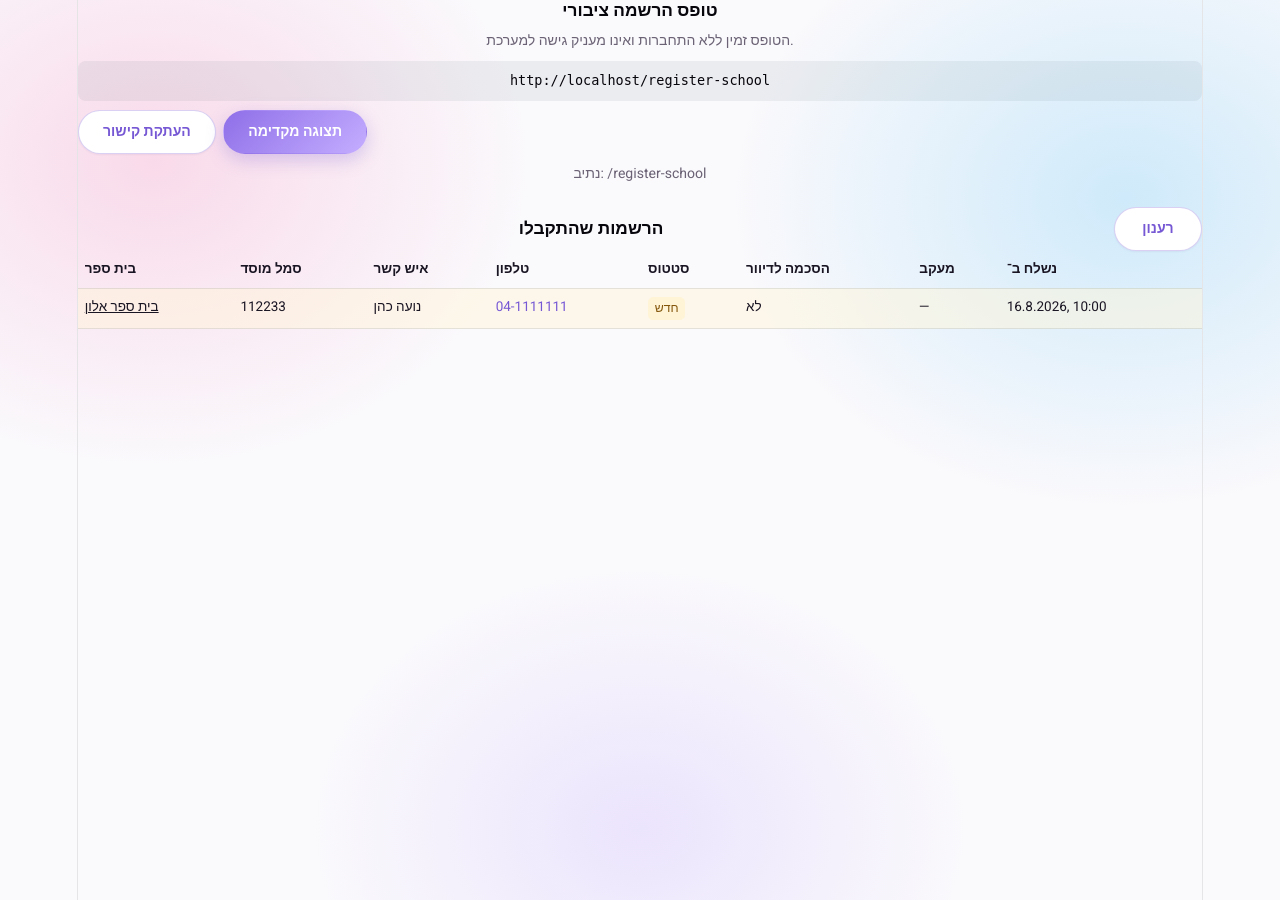
Test case: PlatformAdminRegistrationsSection › opens registration details with sales controls and timeline
Click the button "בית ספר אלון": (122, 307) left=85, top=297, right=159, bottom=317
(page scrolled)
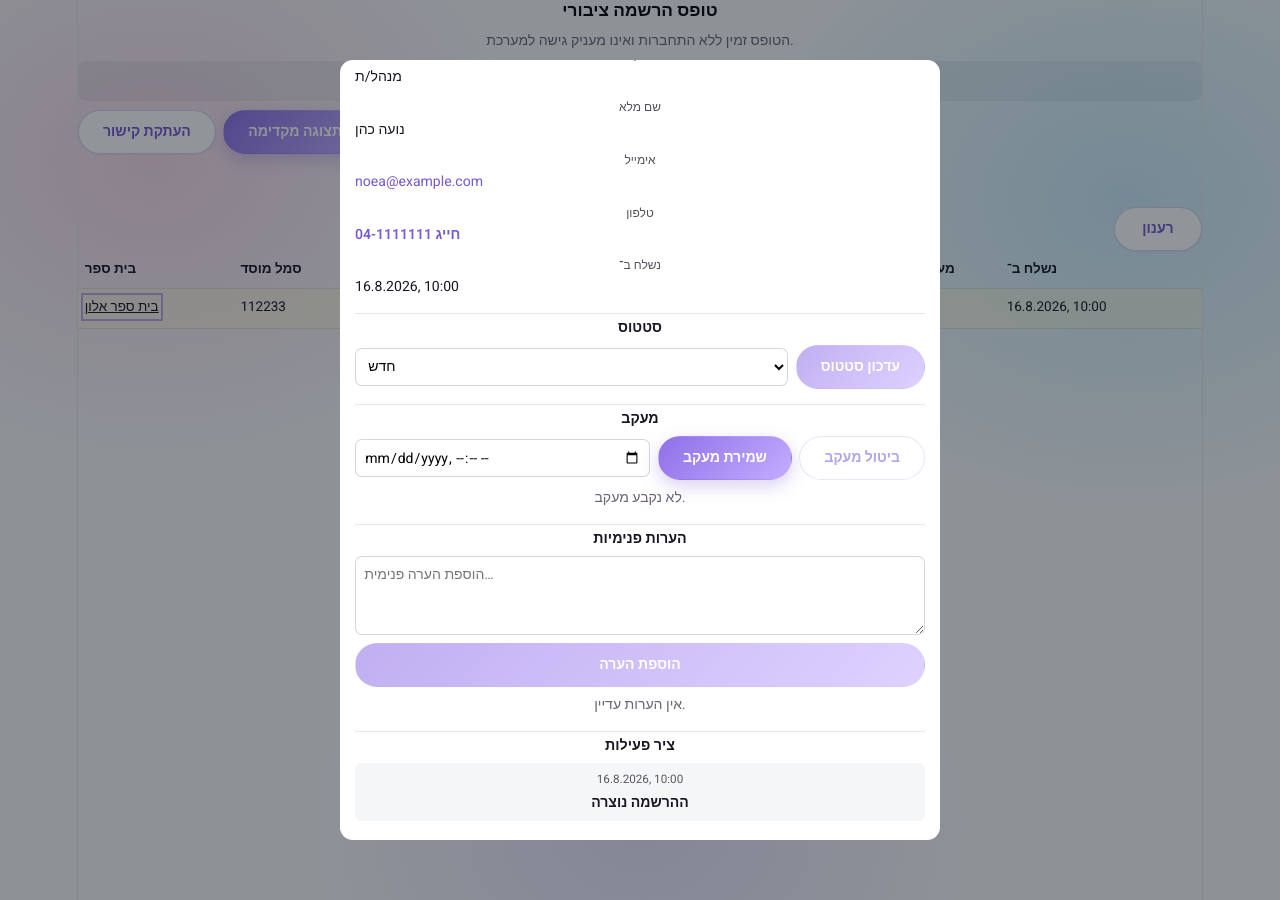
Check: the dialog is shown, box left=340, top=60, right=940, bottom=840
Check: the heading "ציר פעילות" is shown, box left=605, top=735, right=675, bottom=756
Check: the text "ההרשמה נוצרה" is shown, box left=591, top=792, right=689, bottom=813
